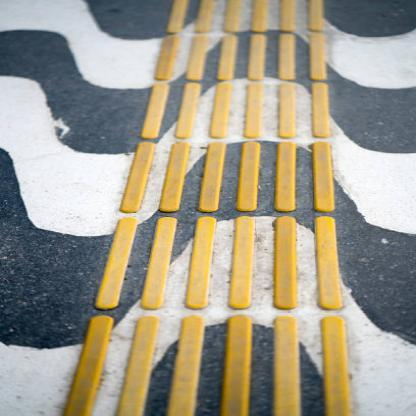podotacti: (61, 1, 351, 415)
